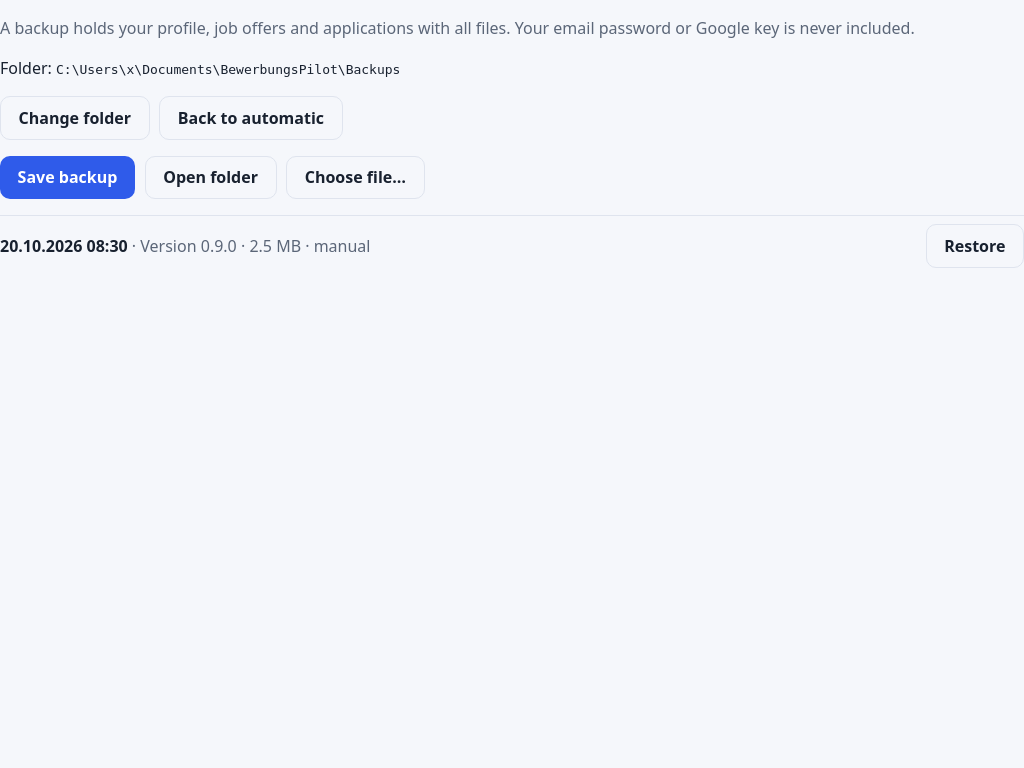
Test case: BackupsSection › cancelling the confirmation restores nothing
This screenshot has width=1024, height=768.
Click the button "Restore" at (975, 246), box [926, 224, 1023, 268]
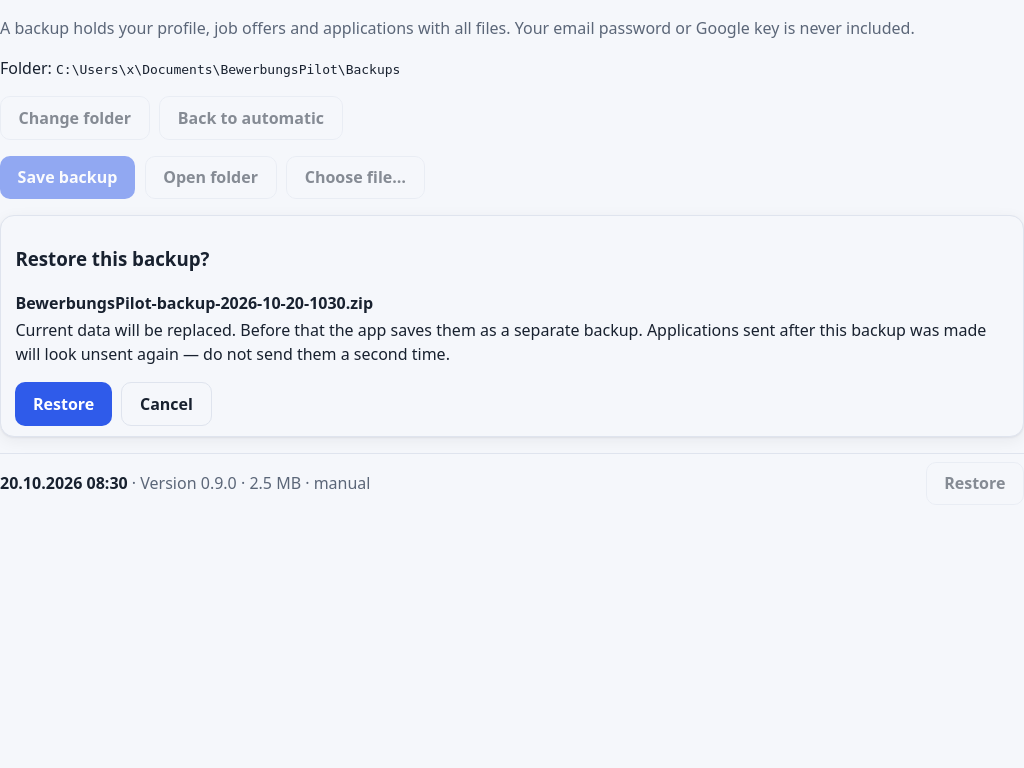
Click the button "Cancel" at (166, 404), box [121, 382, 212, 426]
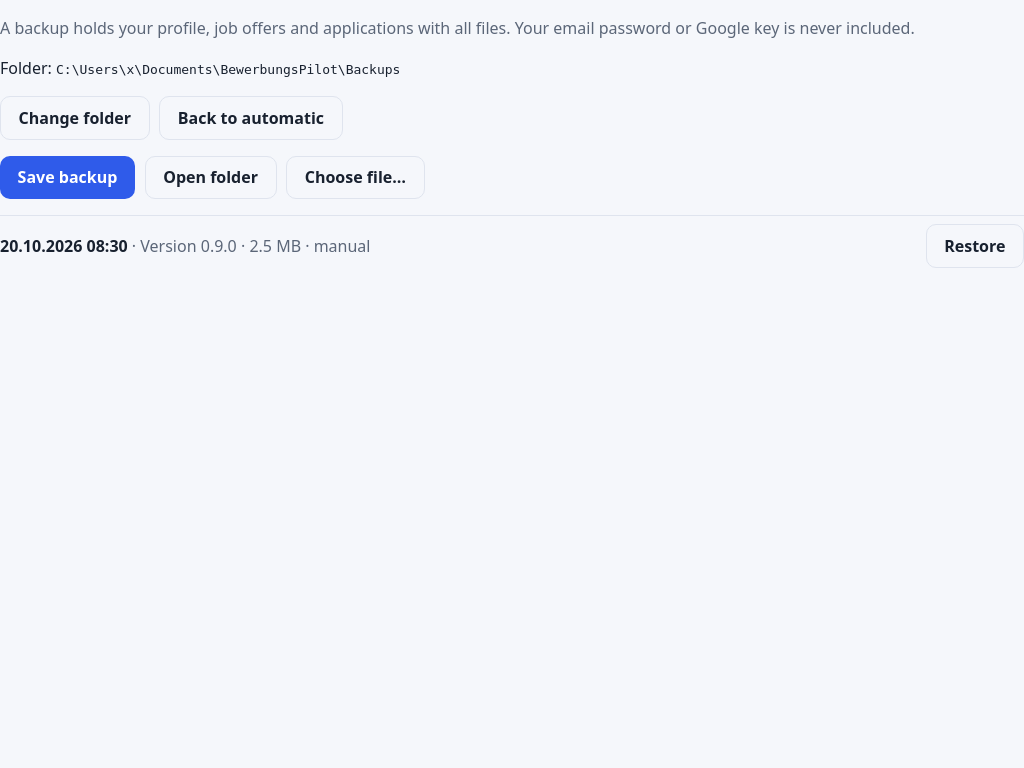
Expected: the dialog is gone
